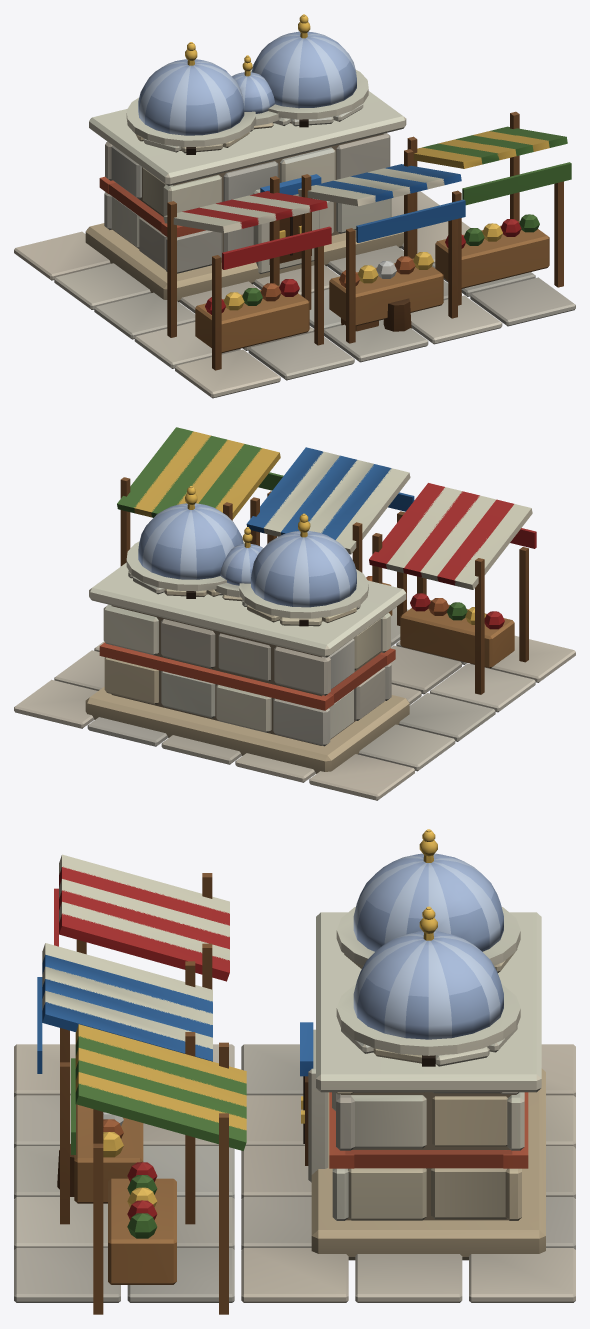
Rendered from b_market.glb.
3 views of the same model, one above another, from view 1: azimuth 30°, elevation 25°; view 2: azimuth 150°, elevation 25°; view 3: azimuth 270°, elevation 25° (orthographic). The views are drawn at different scales.
Parts seen in each view (by area): view 1: b_market, L3, L2; view 2: b_market, L3, L2; view 3: b_market, L3, L2.
Boxes of the visible parts, x1,y1,x2,y2 form: b_market: [14, 14, 575, 398]; L3: [232, 55, 571, 305]; L2: [298, 149, 465, 343]; b_market: [14, 483, 575, 800]; L3: [117, 427, 283, 601]; L2: [246, 447, 414, 625]; b_market: [14, 829, 575, 1302]; L3: [71, 906, 442, 1314]; L2: [37, 943, 212, 1224].
Bounding box in the file's own units: 0.742 × 0.4078 × 0.672.
